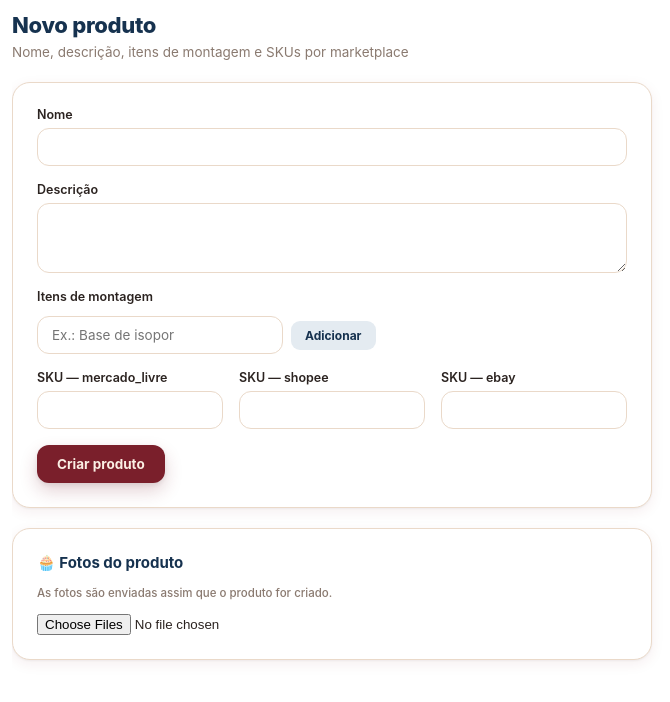
Test: ProductForm — criação › permite remover um item de montagem já adicionado
In the field with test id "assembly-item-input": (160, 335) [37,316,283,354], type "Fita decorativa"
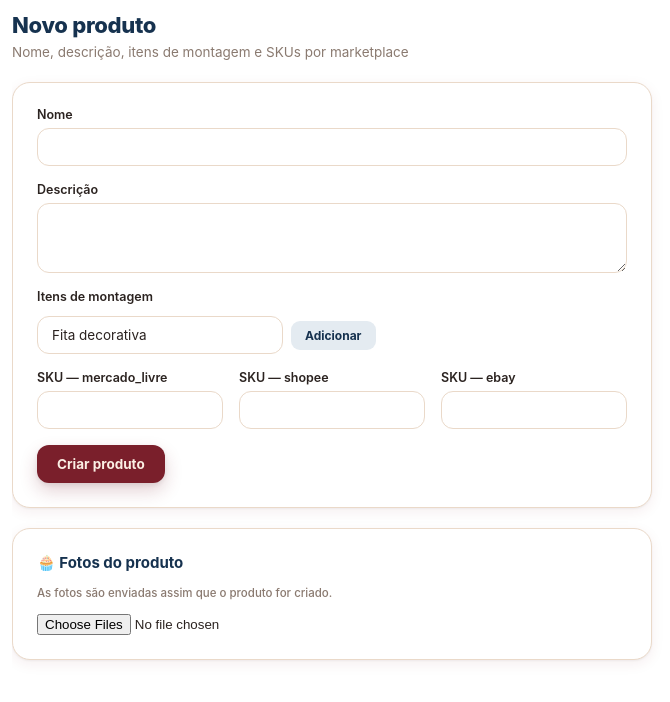
Click the button with test id "add-assembly-item": (333, 335) [291,321,376,350]
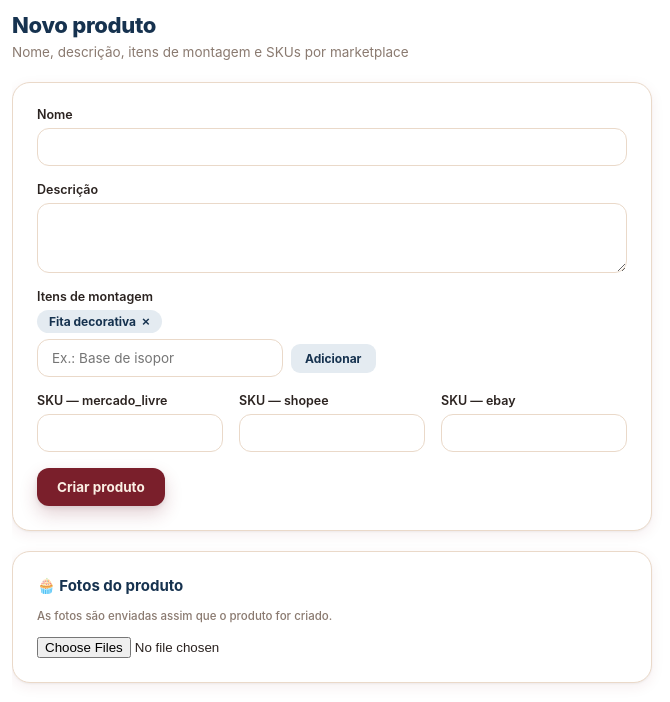
Result: the text "Fita decorativa" is shown at [49,314,136,329]
Click the button with test id "remove-assembly-item-0": (146, 322) [142,315,150,328]
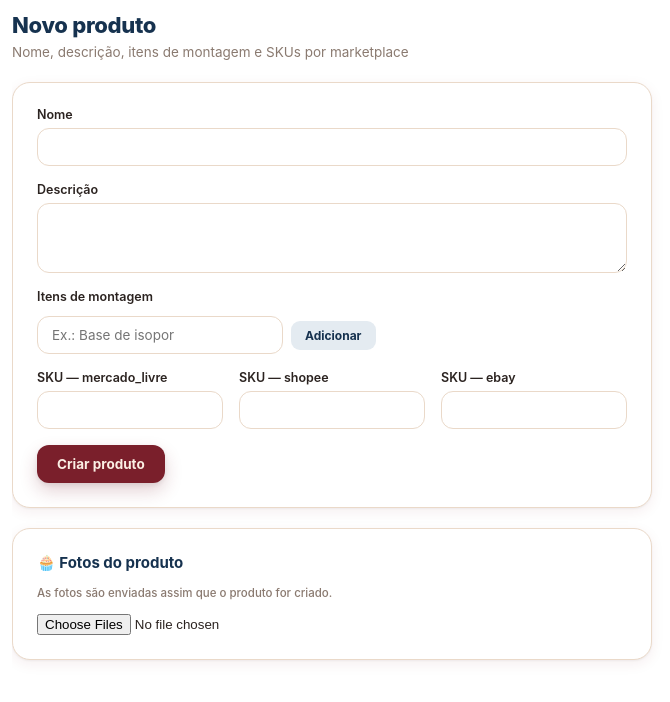
Result: the text "Fita decorativa" is gone
